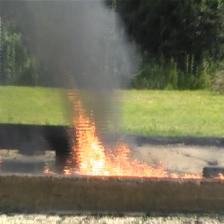fire: (42, 91, 224, 179)
